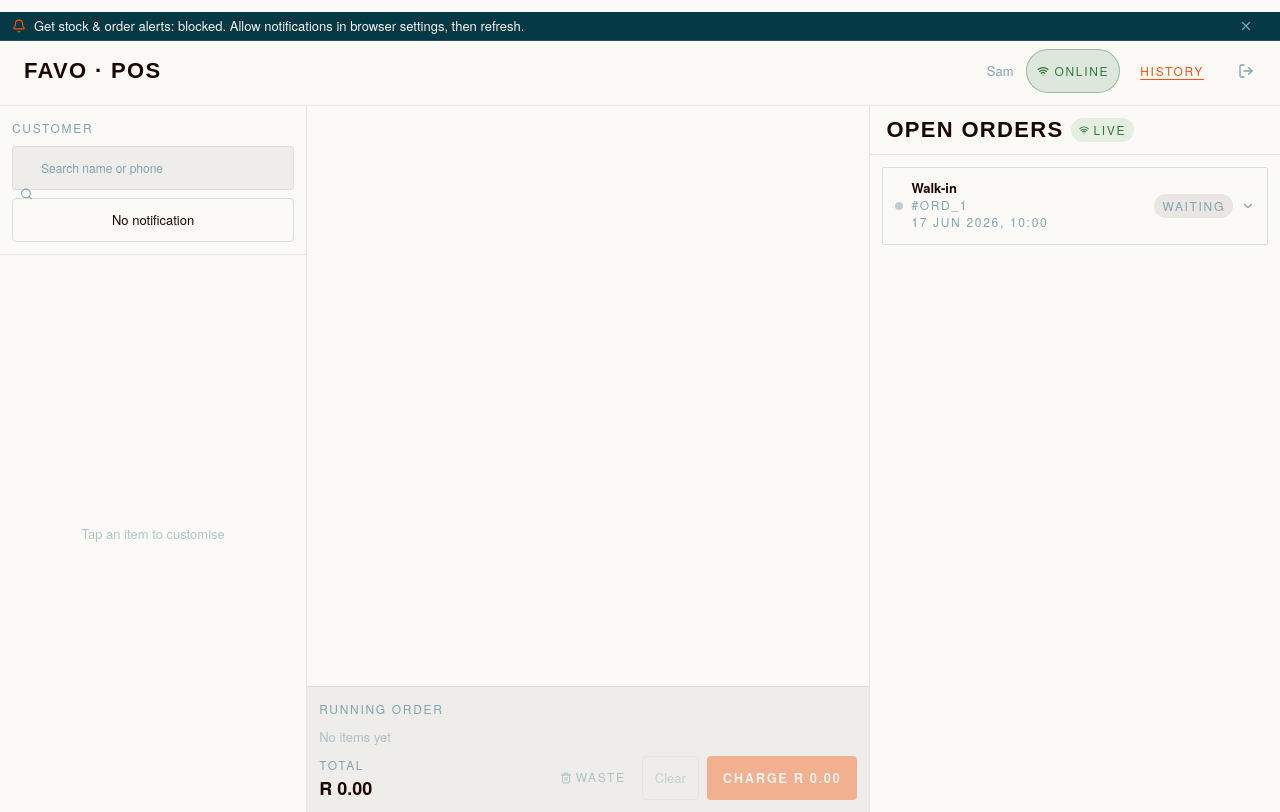
it: queue payment gate (L01) › paid order shows Start Making and no Take payment
Click the text "#ORD_1".
click(940, 204)  # box [911, 196, 968, 213]
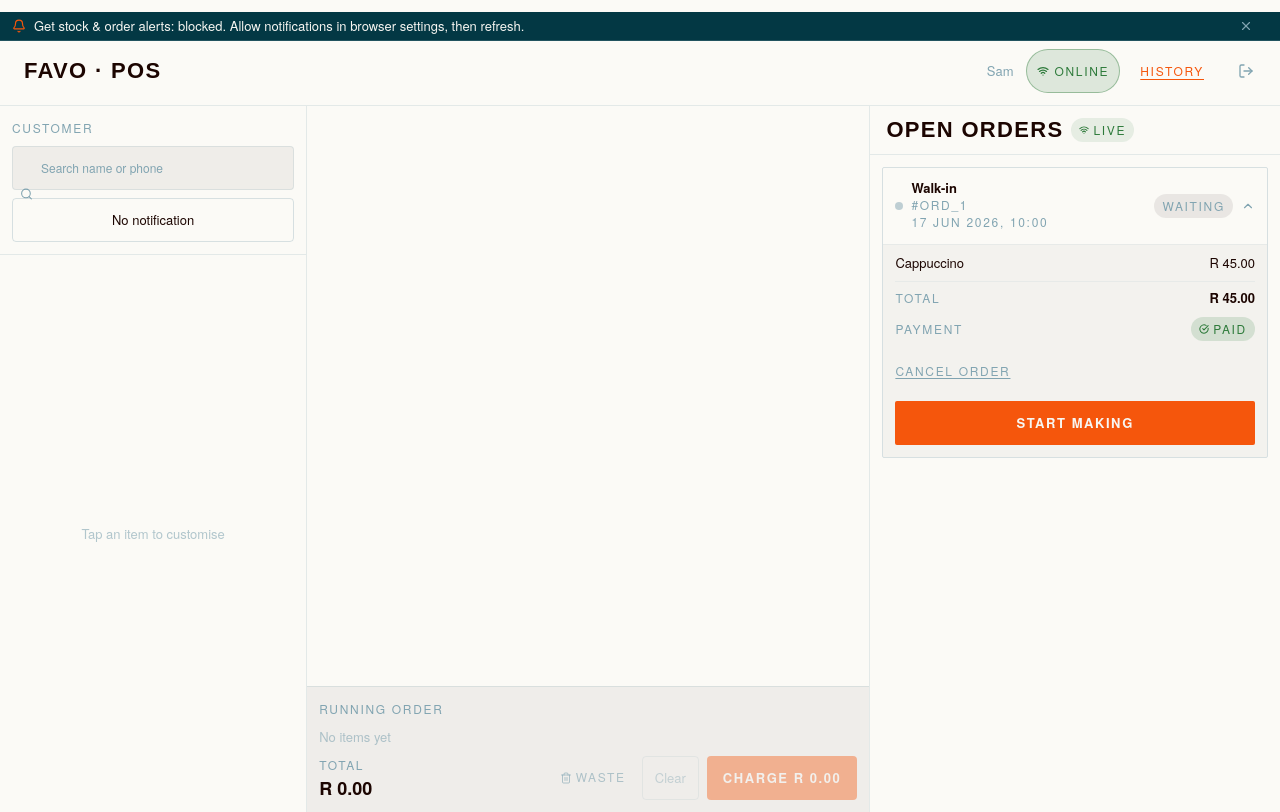
Check: the button "Start Making" is shown, box [895, 401, 1255, 445]
Check: the text "Paid" is shown, box [1191, 317, 1255, 341]
